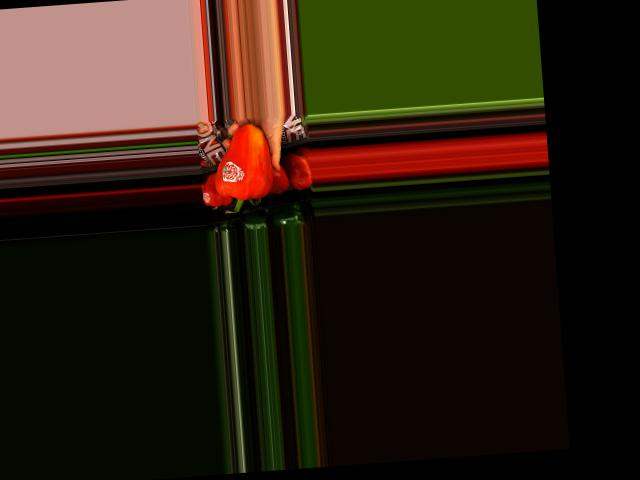bell_pepper: (209, 123, 282, 215)
